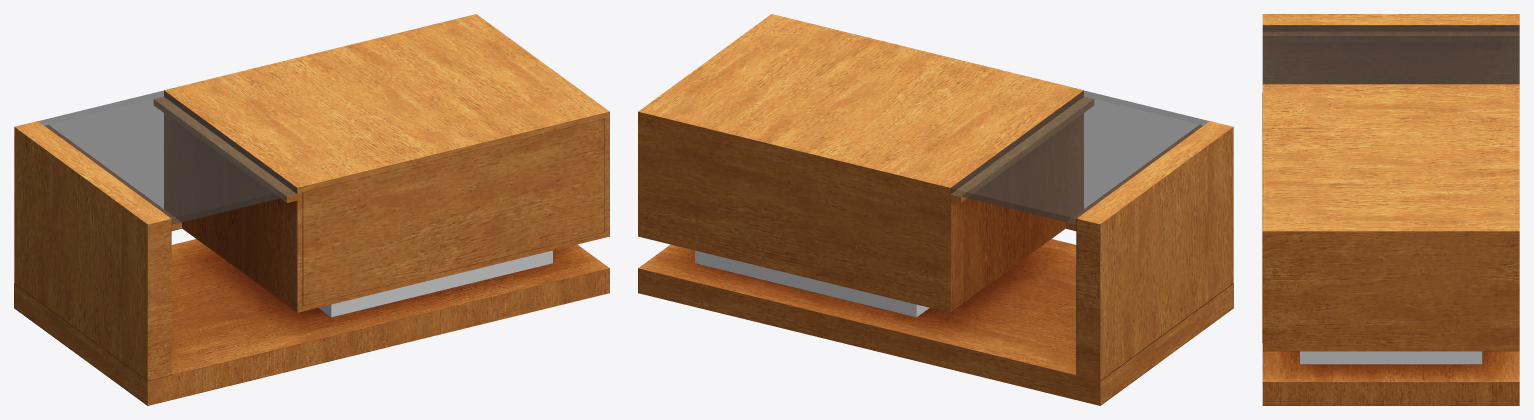
The model's file is CenterTable_5.fbx.
3 views of the same model, side by side, from view 1: azimuth 30°, elevation 25°; view 2: azimuth 150°, elevation 25°; view 3: azimuth 270°, elevation 25° (orthographic). The views are drawn at different scales.
Parts seen in each view (by area): view 1: Cube.007; view 2: Cube.007; view 3: Cube.007.
Part boxes in pixels (<box>): Cube.007: <box>14,14,609,405</box>; Cube.007: <box>638,14,1233,405</box>; Cube.007: <box>1262,14,1519,405</box>.
Size of the model in its own units: 122 by 45.72 by 61.06.
